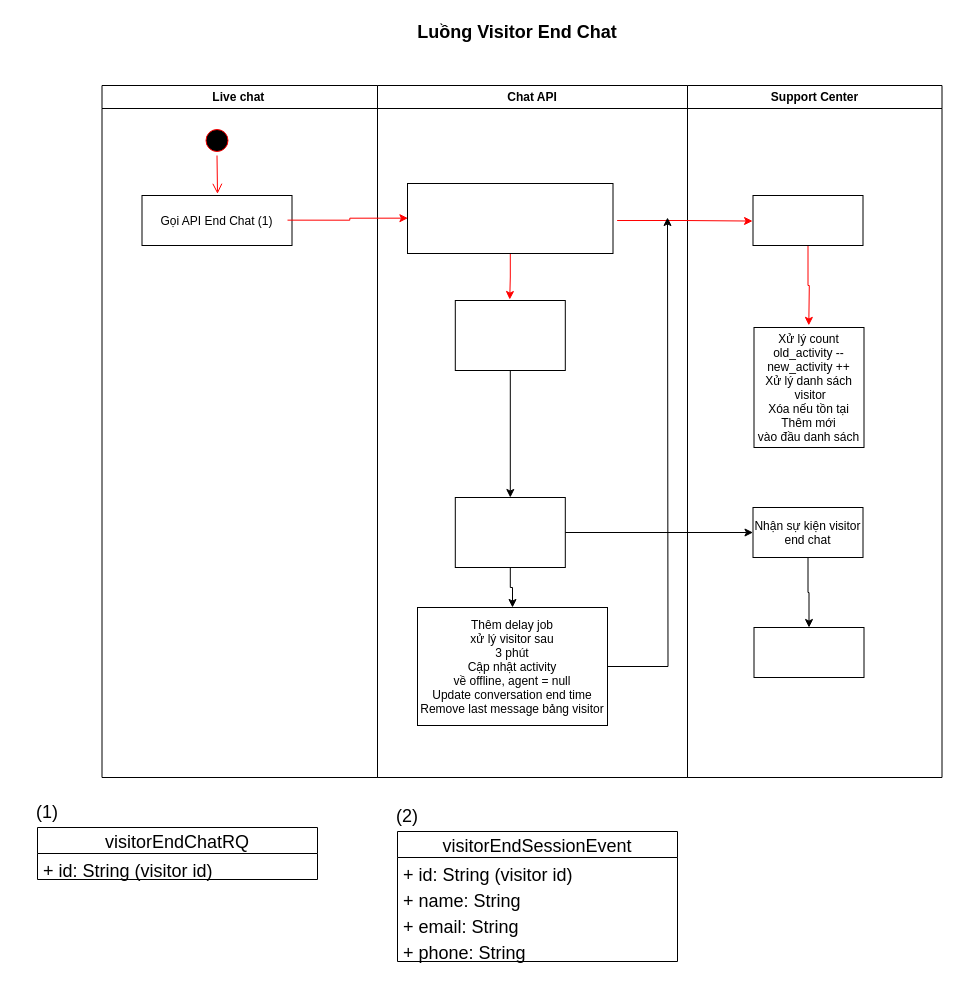
This 959x981 diagram has some shape labels left out. Each missing label, with the centre of its shape:
Cập nhật thông tin visitor về Left: point 509,218
Gửi sự kiện vistor LeftChat tới room cid (2): point 509,532
Hiển thị trên Chat feed: point 808,652
Nhận sự kiện cập nhật visitor: point 807,220
Thêm lịch sử visitorLeftChat: point 509,335
